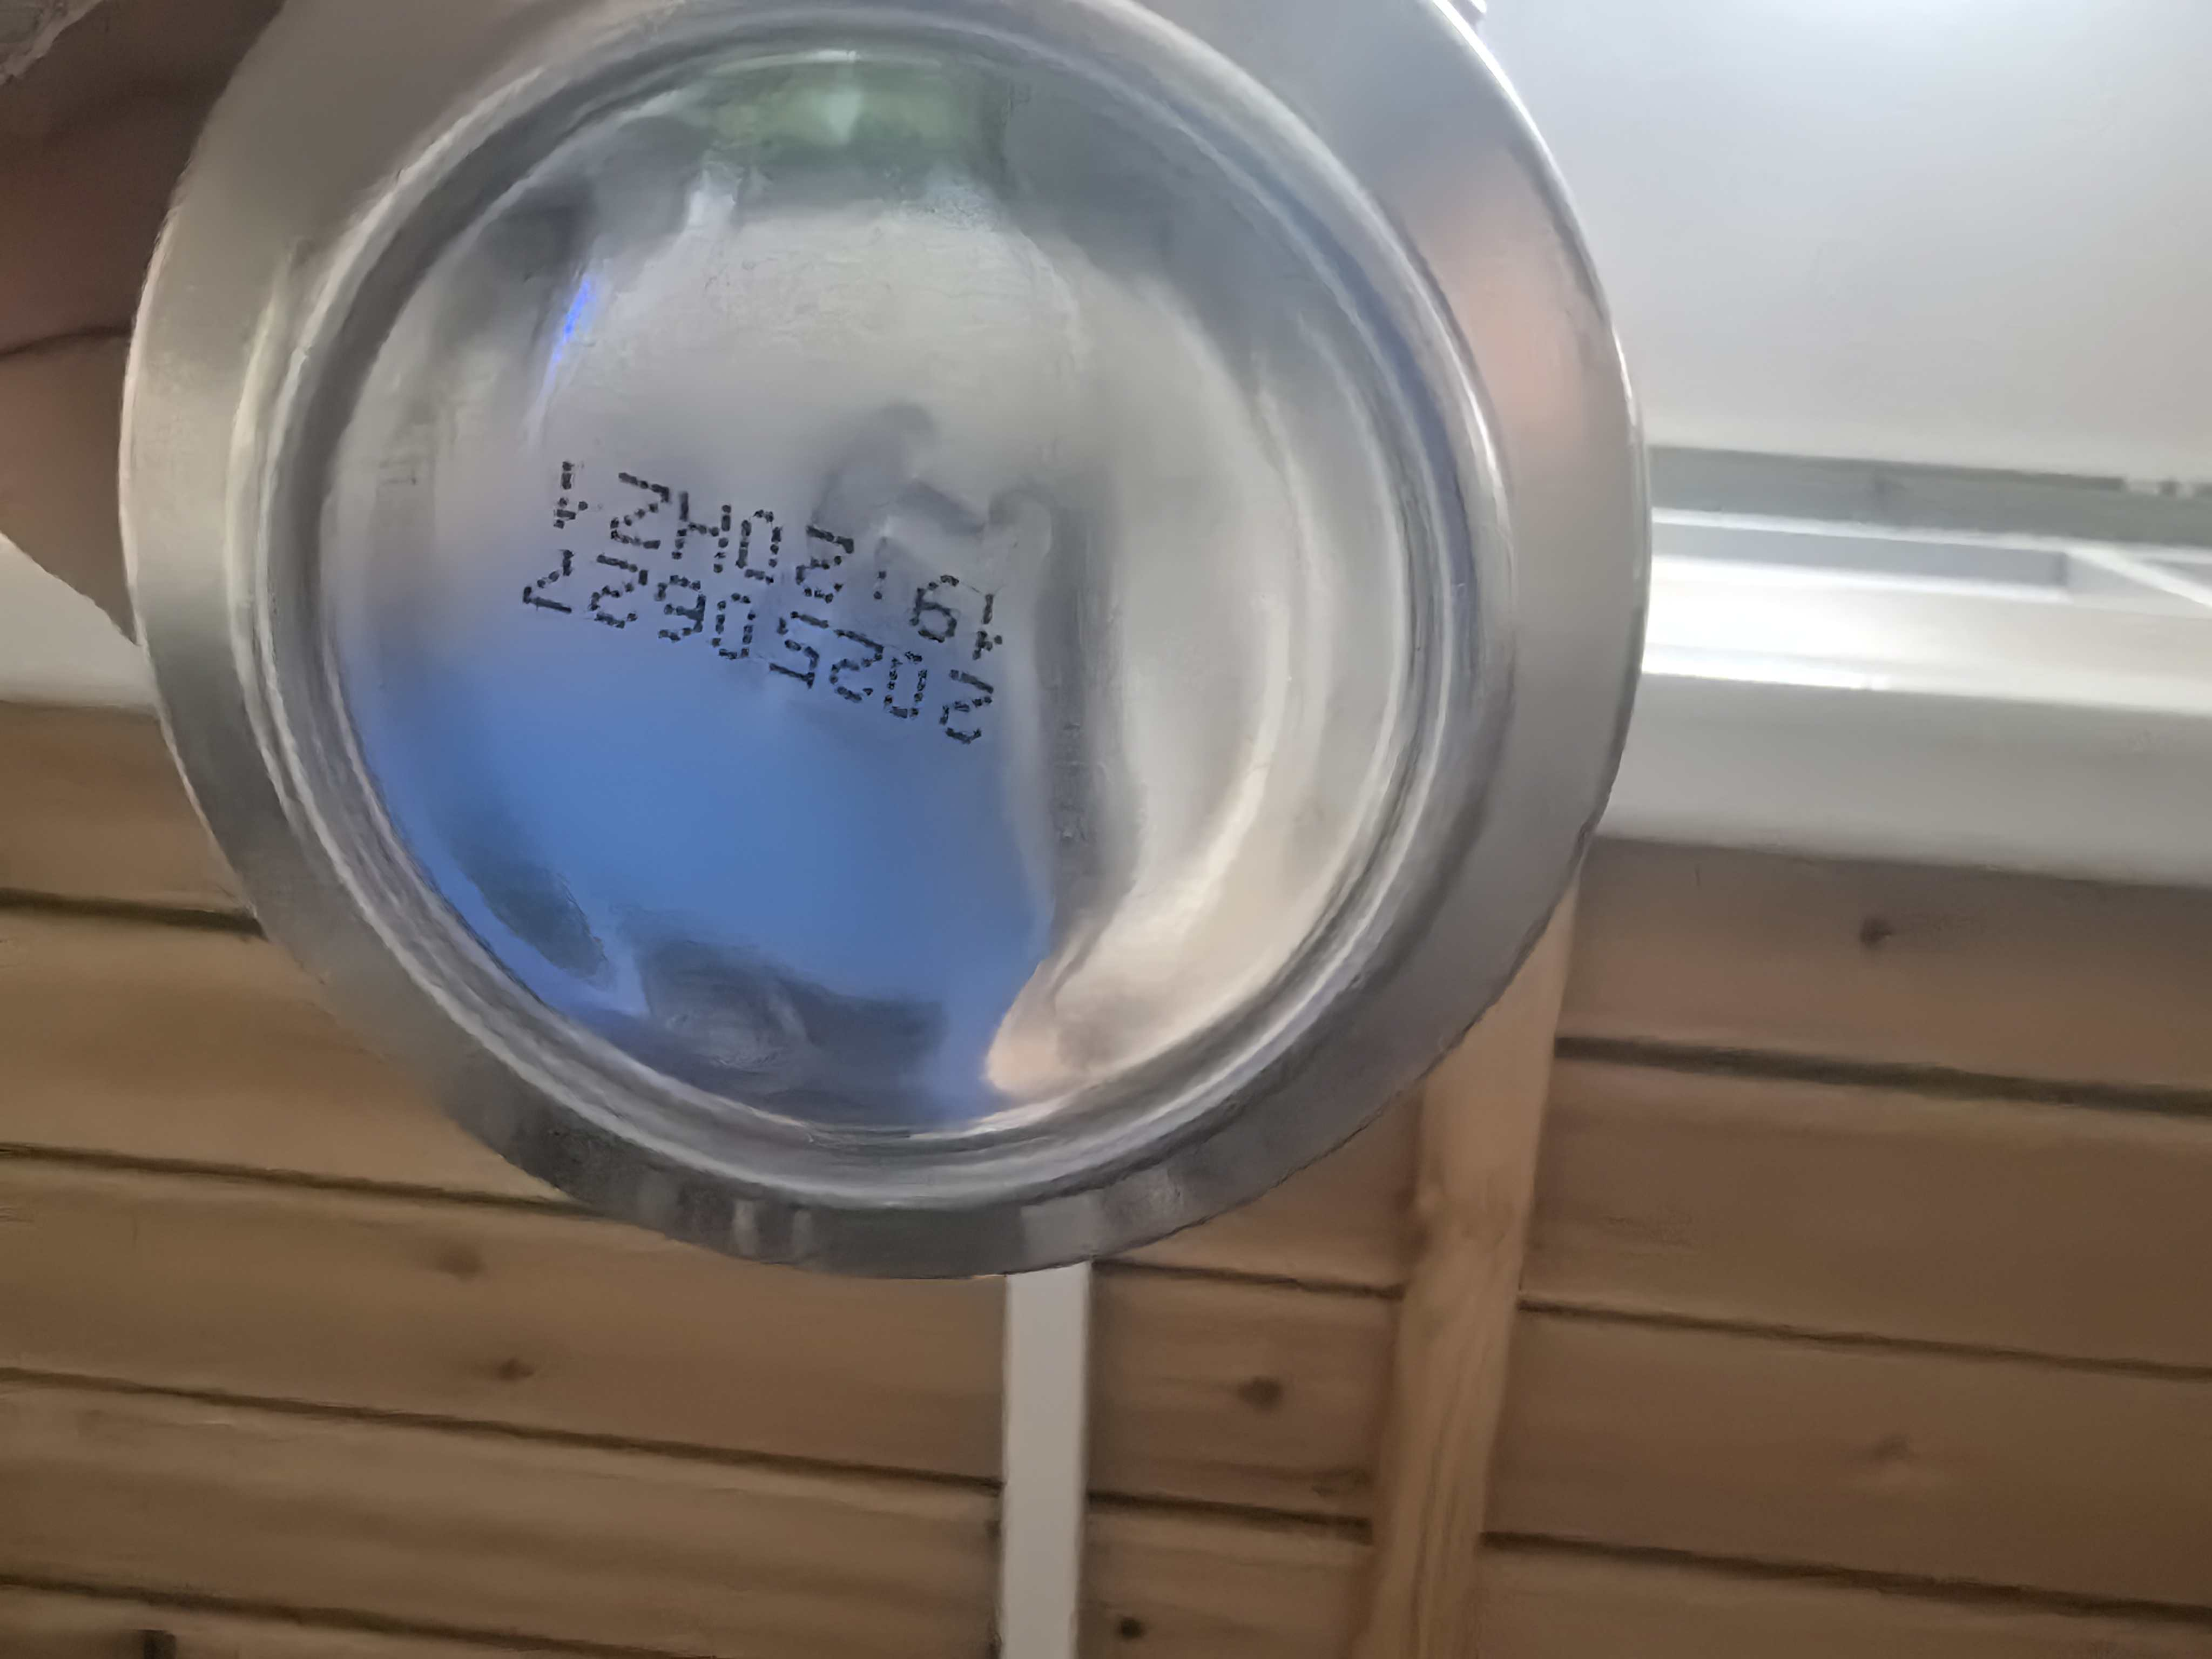可乐: (82, 17, 1721, 1326)
